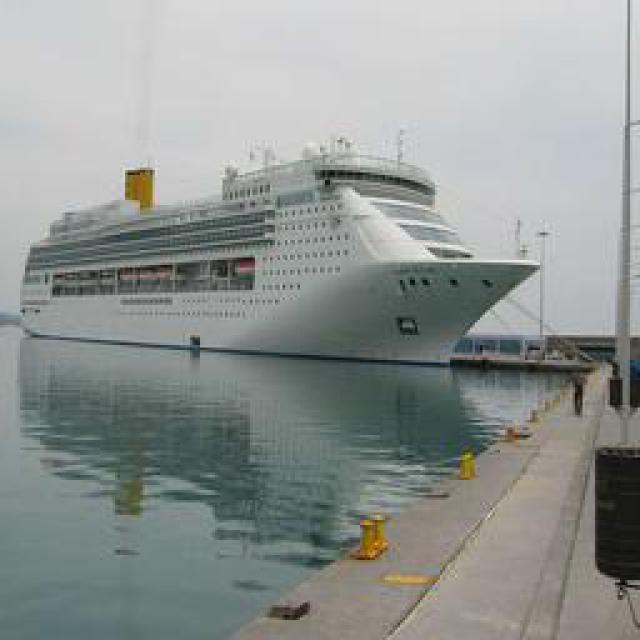Ship: (22, 152, 535, 382)
